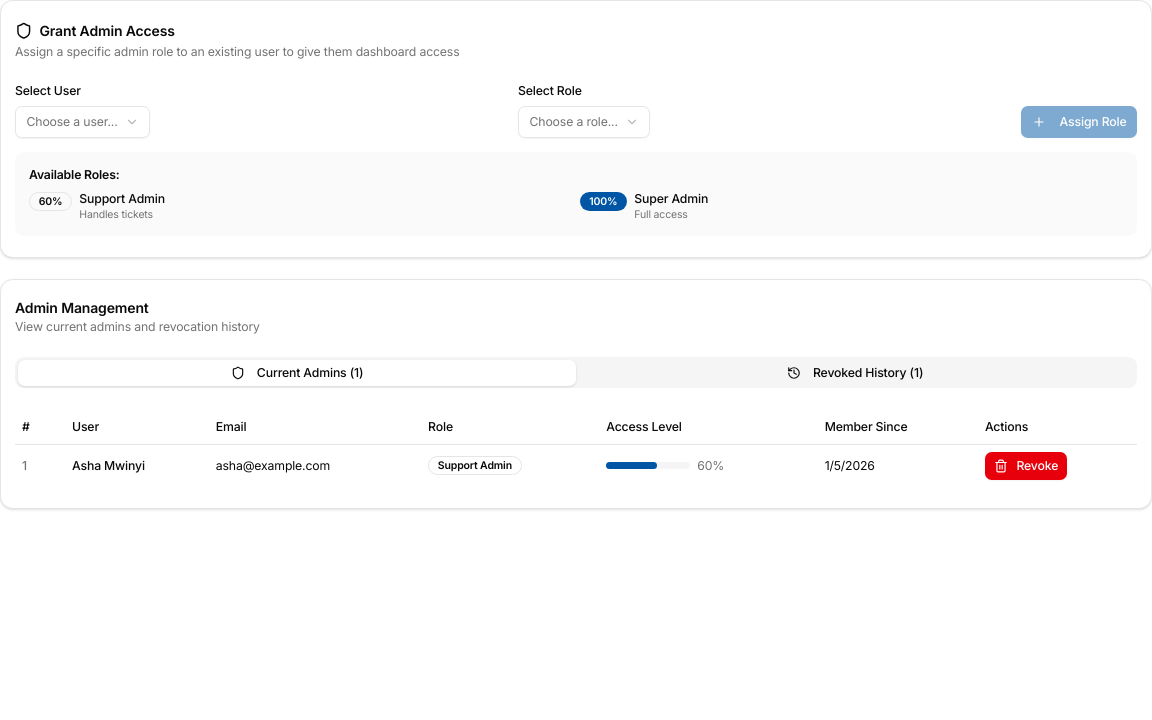
Test case: AdminUsersManagementTab › grant admin access › excludes existing admins from the user dropdown
This screenshot has width=1152, height=720.
Click the dropdown "Choose a user...": (83, 122) left=15, top=106, right=150, bottom=138
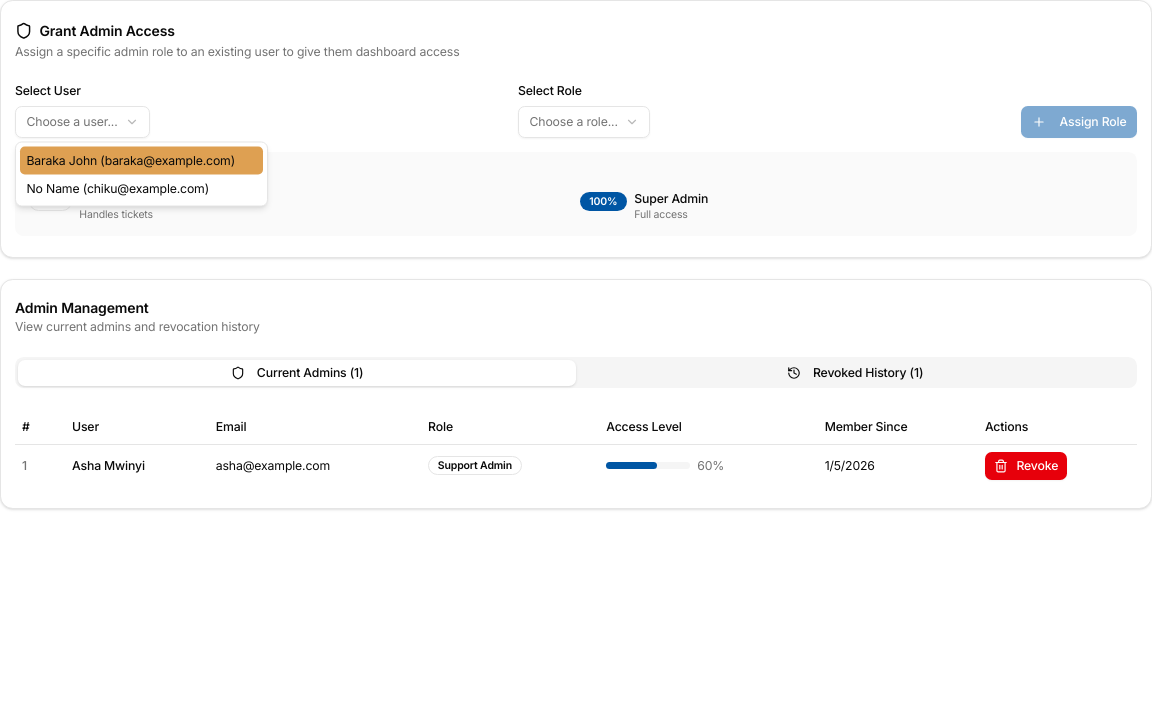
Check: the text "Baraka John (baraka@example.com)" is shown, box left=26, top=151, right=235, bottom=169
